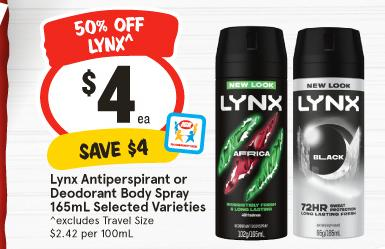description_block: (46, 172, 207, 215)
price_main: (40, 59, 187, 131)
product_image_block: (207, 21, 369, 243)
promo_text_block: (39, 133, 192, 169)
unit_price_block: (44, 226, 140, 242)
